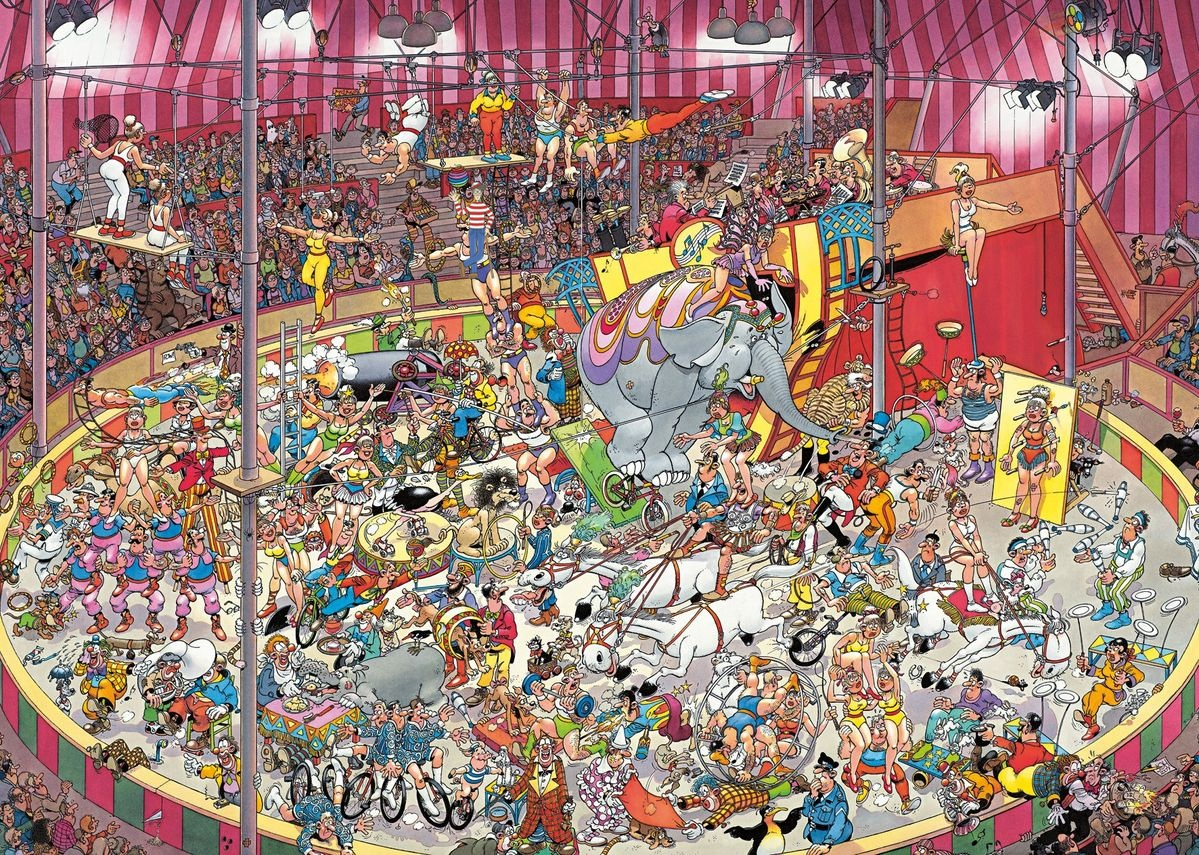waldo: (448, 180, 495, 279)
